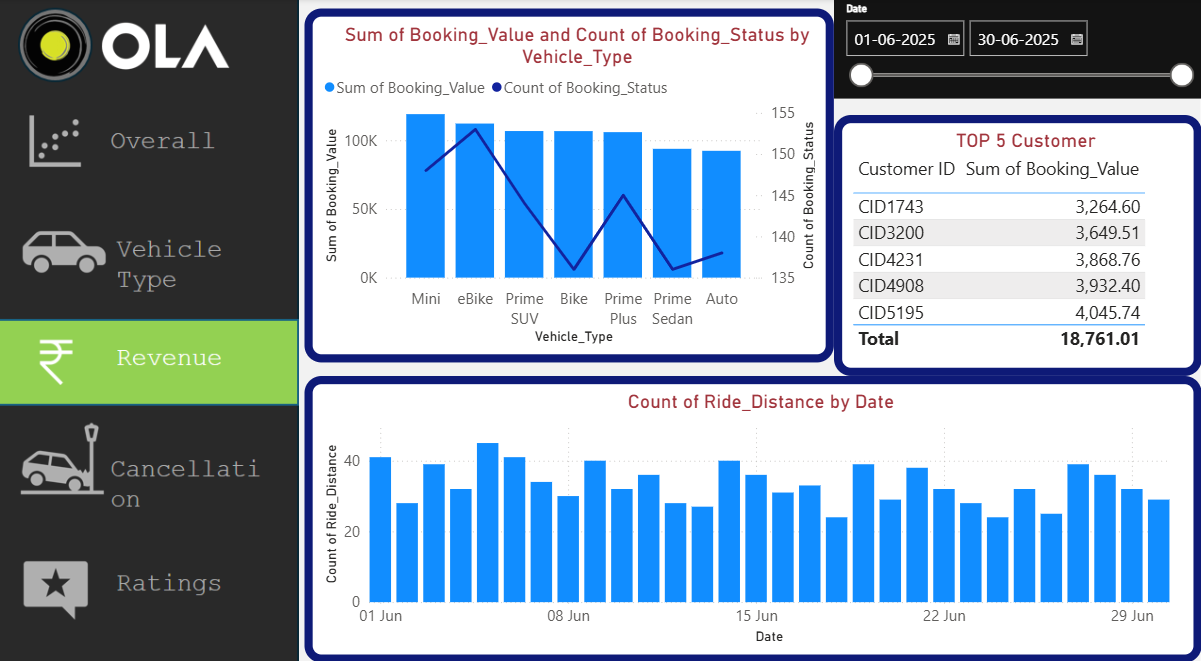

The page's visual inventory and layout, read from the dashboard file:
{"tool":"powerbi","page":{"name":"Page 3","canvas":[1280,720],"ordinal":2},"visuals":[{"type":"actionButton","box":[23.8,106.3,241.3,98.4],"z":0},{"type":"actionButton","box":[23.8,238.1,241.3,98.4],"z":1000},{"type":"actionButton","box":[35,469.2,259.3,98.6],"z":2000},{"type":"actionButton","box":[23.8,568.3,241.3,98.4],"z":3000},{"type":"clusteredColumnChart","fields":{"Y":["CountNonNull(OLA_Booking.Ride_Distance)"],"Category":["OLA_Booking.Date"]},"box":[329.3,400.8,951.2,303.8],"z":4000},{"type":"tableEx","title":"TOP 5 Customer","fields":{"Values":["OLA_Booking.Customer ID","Sum(OLA_Booking.Booking_Value)"]},"box":[890.7,124.1,389.7,276.8],"z":5000},{"type":"slicer","fields":{"Values":["OLA_Booking.Date"]},"box":[890.7,0,389.7,106.6],"z":6000},{"type":"lineStackedColumnComboChart","fields":{"Category":["OLA_Booking.Vehicle_Type"],"Y":["Sum(OLA_Booking.Booking_Value)"],"Y2":["CountNonNull(OLA_Booking.Booking_Status)"]},"box":[329.3,11.1,561.5,375.4],"z":7000}]}

Visuals, with their boxes on the page's 1280x720 design canvas (x1, y1, x2, y2). These are canvas units, not pixel positions in the 1201x661 screenshot, which may show the page scaled, cropped or inside an application window:
actionButton: x1=24, y1=106, x2=265, y2=205
actionButton: x1=24, y1=238, x2=265, y2=336
actionButton: x1=35, y1=469, x2=294, y2=568
actionButton: x1=24, y1=568, x2=265, y2=667
clusteredColumnChart - CountNonNull(OLA_Booking.Ride_Distance) x OLA_Booking.Date: x1=329, y1=401, x2=1280, y2=705
"TOP 5 Customer" tableEx: x1=891, y1=124, x2=1280, y2=401
slicer - OLA_Booking.Date: x1=891, y1=0, x2=1280, y2=107
lineStackedColumnComboChart - OLA_Booking.Vehicle_Type x Sum(OLA_Booking.Booking_Value): x1=329, y1=11, x2=891, y2=386
